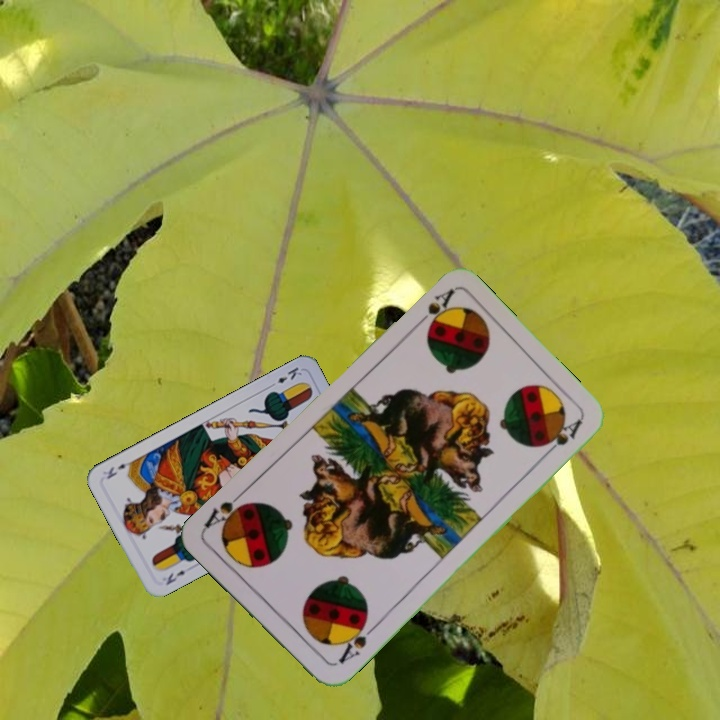EK: (265, 363, 305, 390), (162, 566, 188, 588)
SA: (409, 285, 457, 336), (331, 616, 378, 667)
